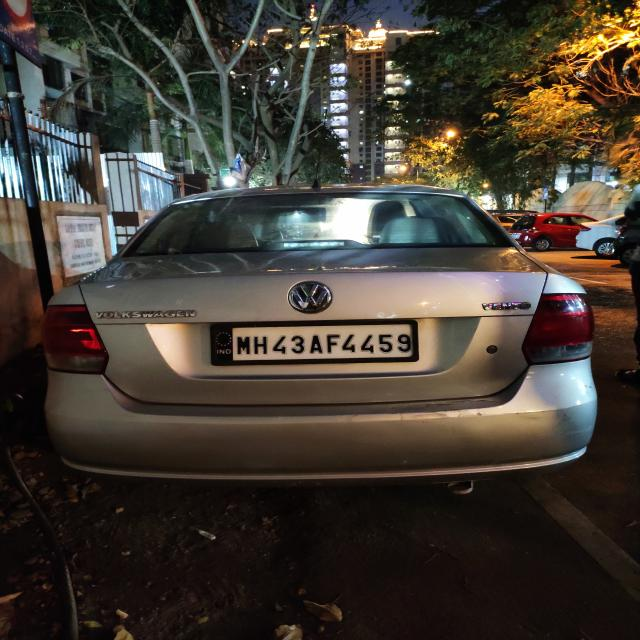Number-Plate: (211, 324, 420, 362)
